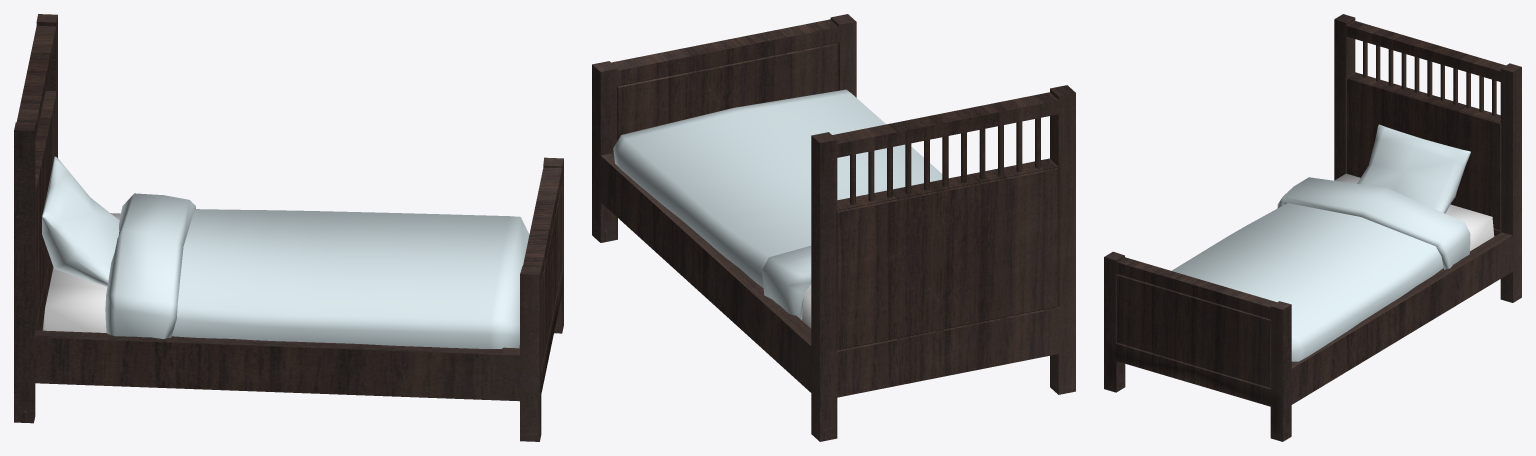
Rendered from Hemnes_Single.fbx.
3 renders of one model, left to right at view 1: azimuth 30°, elevation 25°; view 2: azimuth 150°, elevation 25°; view 3: azimuth 270°, elevation 25°, orthographic. The views are drawn at different scales.
Parts seen in each view (by area): view 1: IKEA-Hemnes_Single_Bed_Frame_Small-3D; view 2: IKEA-Hemnes_Single_Bed_Frame_Small-3D; view 3: IKEA-Hemnes_Single_Bed_Frame_Small-3D.
Part boxes in pixels (left/top/right/bottom): IKEA-Hemnes_Single_Bed_Frame_Small-3D: left=14, top=14, right=563, bottom=441; IKEA-Hemnes_Single_Bed_Frame_Small-3D: left=592, top=14, right=1075, bottom=441; IKEA-Hemnes_Single_Bed_Frame_Small-3D: left=1104, top=14, right=1521, bottom=441.
Size of the model in its own units: 22165 by 12100 by 19848.
Materials: 3 (1 with a texture image).
